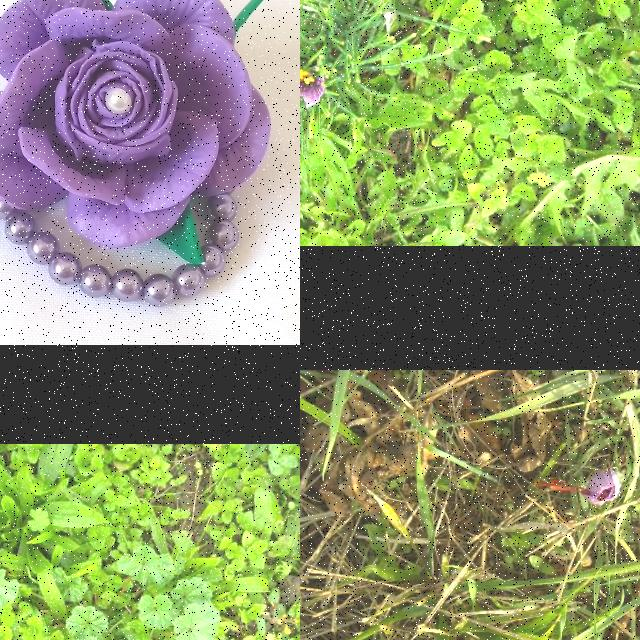flower: (536, 471, 622, 507)
